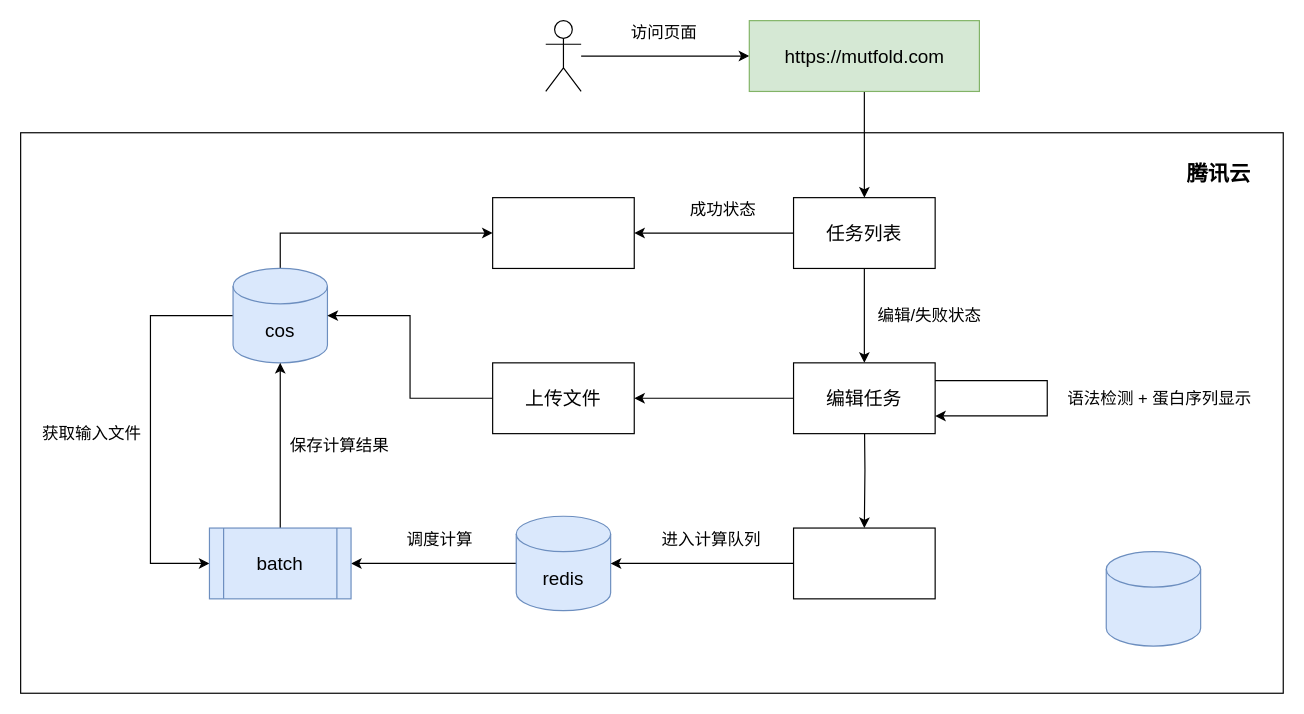
Some shapes in this 1304 by 714 pixel diagram are drawn without their labels. The shapes that lost their labels are listed below. From the top down, each one's centre as x and y in pixels, then its label:
(563,55): 用户
(562,232): 下载结果
(863,563): 提交任务
(1153,598): mysql
